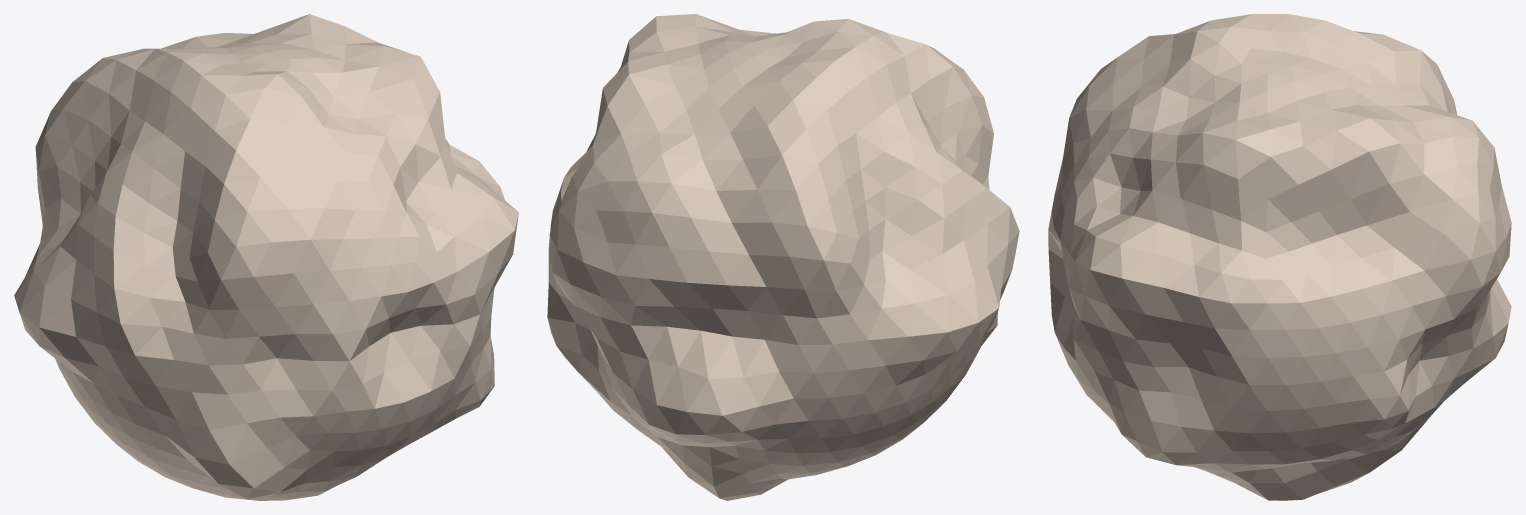
Rendered from Earth.gltf.
The picture shows the model from 3 angles, left to right: view 1: azimuth 30°, elevation 25°; view 2: azimuth 150°, elevation 25°; view 3: azimuth 270°, elevation 25°; orthographic projection. The views are drawn at different scales.
Visible parts, largest first — view 1: Icosphere; view 2: Icosphere; view 3: Icosphere.
Boxes of the visible parts, <box> form: Icosphere: <box>14,14,518,500</box>; Icosphere: <box>547,14,1019,500</box>; Icosphere: <box>1048,14,1511,500</box>.
Size of the model in its own units: 219 by 222 by 211.
